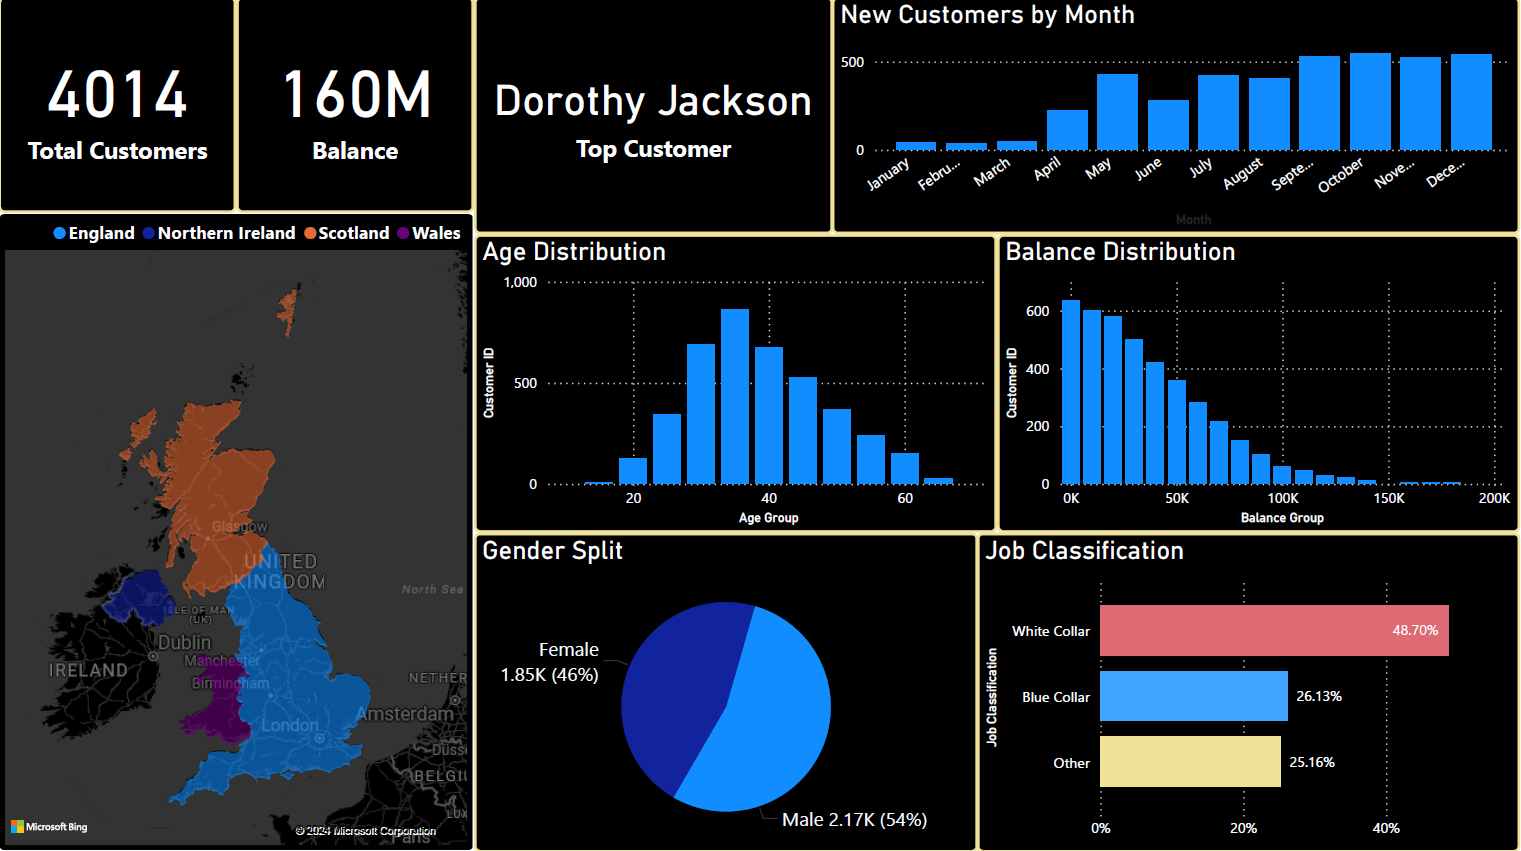

The dashboard page shown, as its layout file describes it:
{"tool":"powerbi","page":{"name":"Page 1","canvas":[1280,720],"ordinal":0},"visuals":[{"type":"filledMap","fields":{"Category":["Bank Data.Region"],"Series":["Bank Data.Region"]},"box":[0,181.9,399.7,537.6],"z":0},{"type":"card","title":"Total Customer","fields":{"Values":["Bank Data.Customer ID"]},"box":[0,0,199.8,181.9],"z":1000},{"type":"card","title":"Total Customer","fields":{"Values":["Bank Data.Balance"]},"box":[199.8,0,199.8,181.9],"z":2000},{"type":"card","title":"Total Customer","fields":{"Values":["Bank Data.Customer Name"]},"box":[400,0,301.8,199.8],"z":3000},{"type":"clusteredColumnChart","title":"New Customers by Month","fields":{"Category":["Bank Data.Date Joined.Variation.Date Hierarchy.Month","Bank Data.Date Joined.Variation.Date Hierarchy.Day"],"Y":["Bank Data.Customer ID"]},"box":[701.5,0,578.5,199.8],"z":4000},{"type":"clusteredColumnChart","title":"Age Distribution","fields":{"Y":["Bank Data.Customer ID"],"Category":["Bank Data.Age Group"]},"box":[399.7,199.8,440,250.8],"z":5000},{"type":"clusteredColumnChart","title":"Balance Distribution","fields":{"Y":["Bank Data.Customer ID"],"Category":["Bank Data.Balance Group"]},"box":[840.3,199.8,440,250.8],"z":6000},{"type":"pieChart","title":"Gender Split","fields":{"Category":["Bank Data.Gender"],"Y":["Bank Data.Gender"]},"box":[400,450.6,423.7,269.8],"z":7000},{"type":"clusteredBarChart","title":"Job Classification","fields":{"Category":["Bank Data.Job Classification"],"Y":["Bank Data.Job Classification"]},"box":[823.4,450.6,456.6,269.8],"z":8000}]}

Visuals, with their boxes in screenshot pixels (x1, y1, x2, y2), scaled from the page's 1280x720 canvas onto the 1521x851 screenshot:
filledMap - Bank Data.Region x Bank Data.Region: 0,215,475,850
"Total Customer" card: 0,0,237,215
"Total Customer" card: 237,0,475,215
"Total Customer" card: 475,0,834,236
"New Customers by Month" clusteredColumnChart: 834,0,1520,236
"Age Distribution" clusteredColumnChart: 475,236,998,533
"Balance Distribution" clusteredColumnChart: 999,236,1520,533
"Gender Split" pieChart: 475,533,979,850
"Job Classification" clusteredBarChart: 978,533,1520,850
